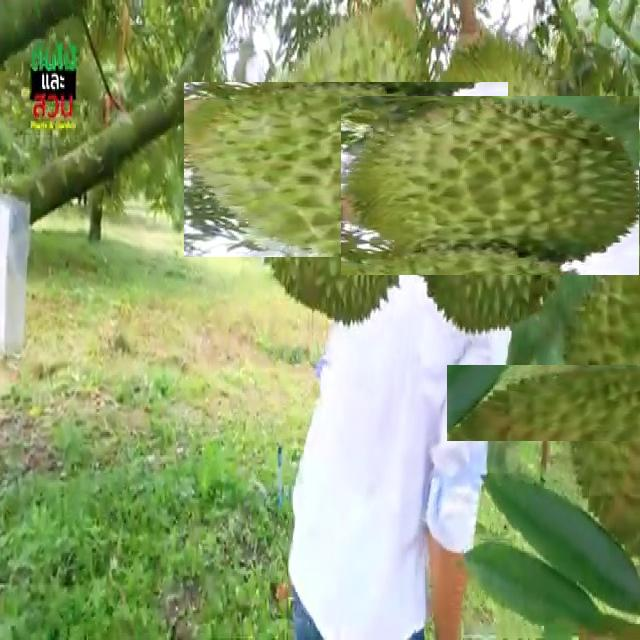durian: (221, 44, 471, 294), (373, 64, 616, 306), (504, 306, 640, 499)
